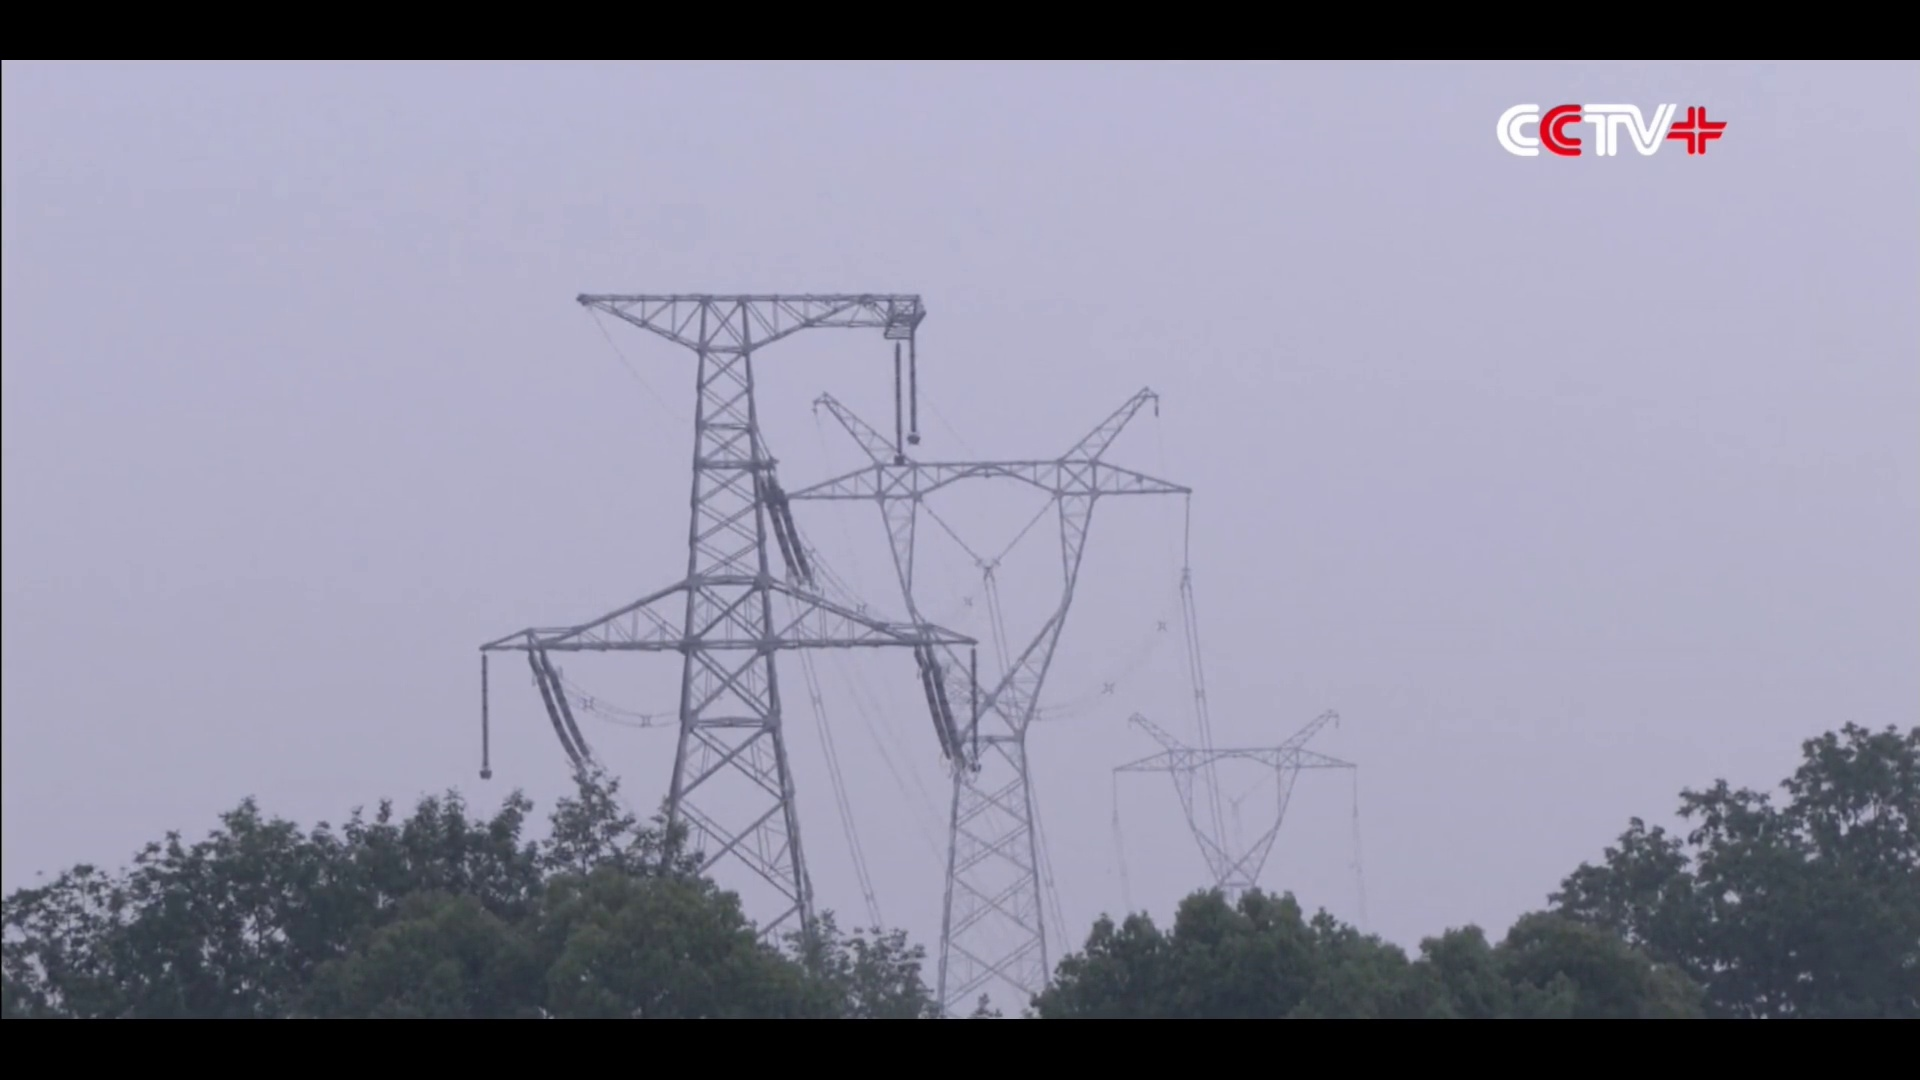tower_up: (501, 247, 928, 971), (804, 363, 1192, 1025), (1113, 698, 1400, 910)
